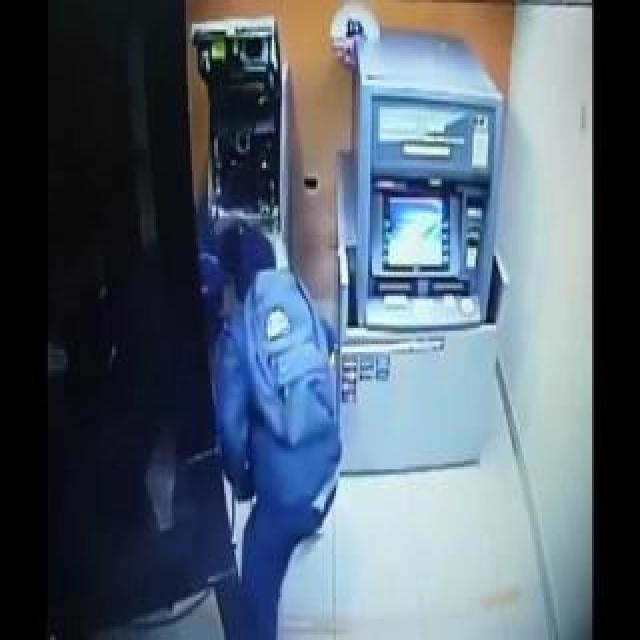thief: (172, 194, 329, 397)
